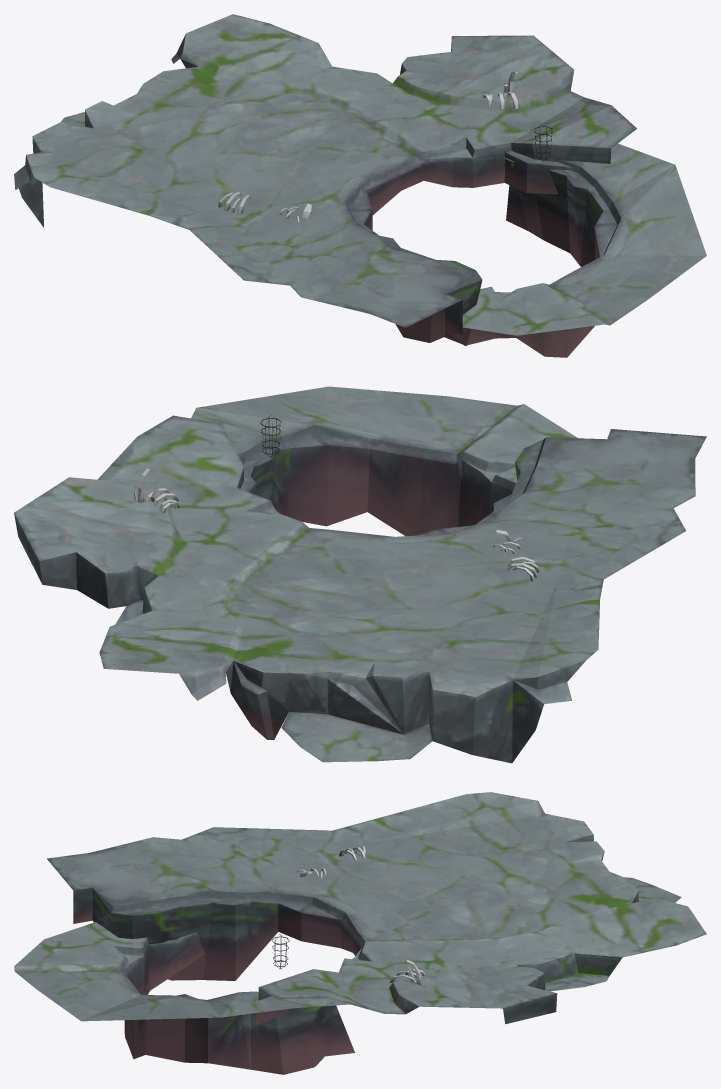
The model's file is Area04_2_y.FBX.
3 views of the same model, one above another, from view 1: azimuth 30°, elevation 25°; view 2: azimuth 150°, elevation 25°; view 3: azimuth 270°, elevation 25° (orthographic). The views are drawn at different scales.
Parts seen in each view (by area): view 1: Area04_2_y; view 2: Area04_2_y; view 3: Area04_2_y.
Part boxes in pixels (x1,y1,x2,y2): Area04_2_y: (14,14,706,357); Area04_2_y: (14,386,706,763); Area04_2_y: (14,792,706,1074).
Size of the model in its own units: 5339 by 1631 by 6795.
Materials: 1 (1 with a texture image).
